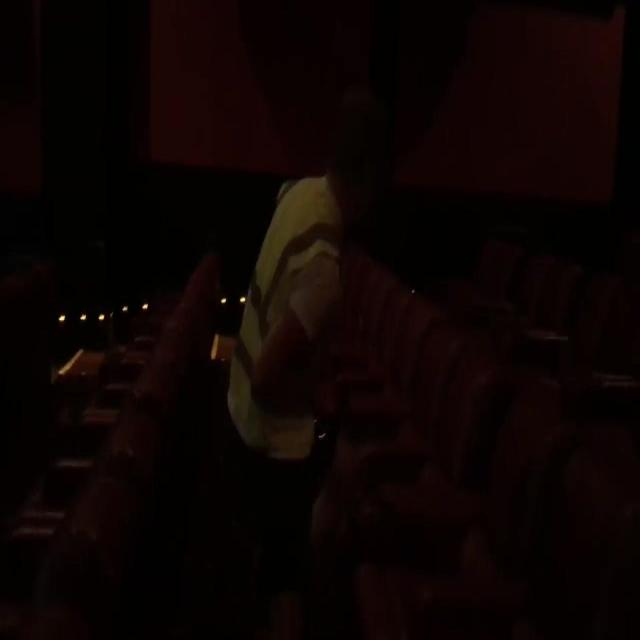Vest: (229, 174, 339, 430)
